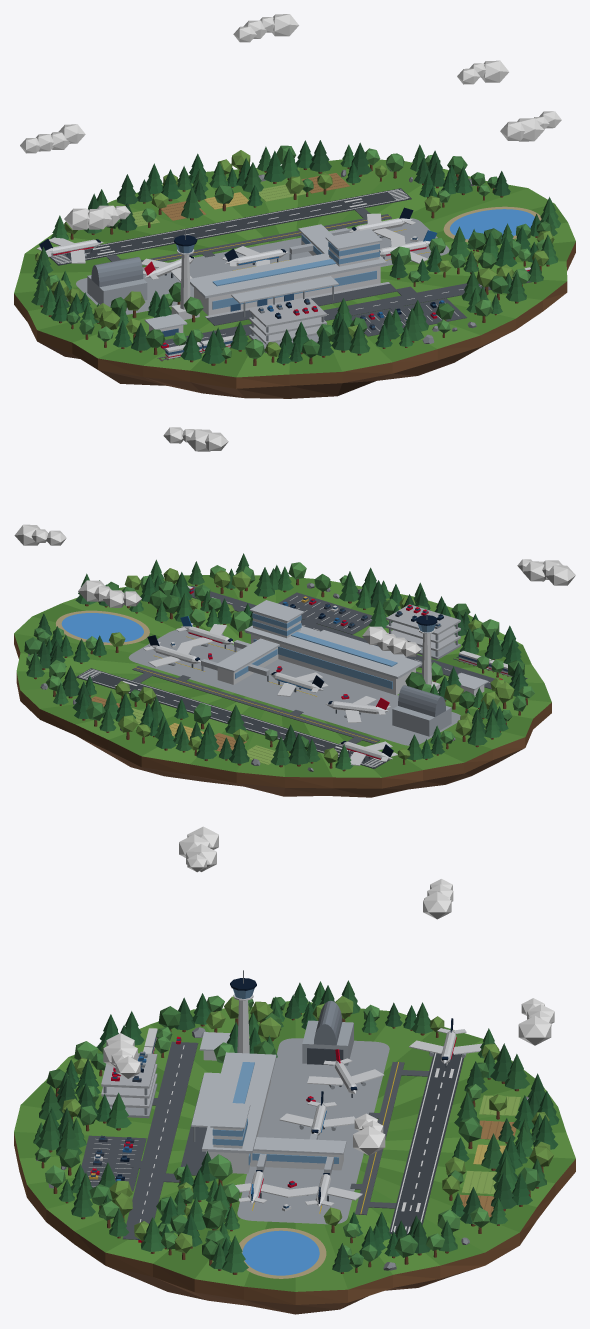
File: terminal.glb
3 views of the same model, one above another, from view 1: azimuth 30°, elevation 25°; view 2: azimuth 150°, elevation 25°; view 3: azimuth 270°, elevation 25° (orthographic). The views are drawn at different scales.
Visible parts, largest first — view 1: diorama, lac, nuage-4, nuage-2, nuage-5, nuage-1, avion-decollage, nuage-3; view 2: diorama, lac, nuage-5, nuage-4, nuage-2, nuage-1, avion-decollage, nuage-3; view 3: diorama, lac, nuage-4, nuage-2, nuage-5, nuage-3, avion-decollage, nuage-1.
Boxes of the visible parts, x1=… form: diorama: x1=14, y1=140, x2=575, y2=398; lac: x1=450, y1=209, x2=534, y2=239; nuage-4: x1=64, y1=205, x2=130, y2=229; nuage-2: x1=233, y1=14, x2=298, y2=42; nuage-5: x1=500, y1=111, x2=561, y2=141; nuage-1: x1=20, y1=124, x2=85, y2=153; avion-decollage: x1=36, y1=237, x2=103, y2=263; nuage-3: x1=457, y1=60, x2=508, y2=84; diorama: x1=14, y1=553, x2=551, y2=797; lac: x1=61, y1=613, x2=143, y2=642; nuage-5: x1=163, y1=427, x2=228, y2=451; nuage-4: x1=517, y1=559, x2=575, y2=585; nuage-2: x1=78, y1=580, x2=141, y2=607; nuage-1: x1=362, y1=626, x2=421, y2=656; avion-decollage: x1=339, y1=741, x2=397, y2=765; nuage-3: x1=14, y1=524, x2=66, y2=545; diorama: x1=14, y1=970, x2=575, y2=1314; lac: x1=242, y1=1230, x2=319, y2=1275; nuage-4: x1=179, y1=826, x2=218, y2=872; nuage-2: x1=518, y1=998, x2=554, y2=1045; nuage-5: x1=103, y1=1033, x2=140, y2=1078; nuage-3: x1=353, y1=1113, x2=385, y2=1155; avion-decollage: x1=409, y1=1018, x2=481, y2=1067; nuage-1: x1=423, y1=879, x2=453, y2=919.
Size of the model in its own units: 29.07 by 13.27 by 23.27.
